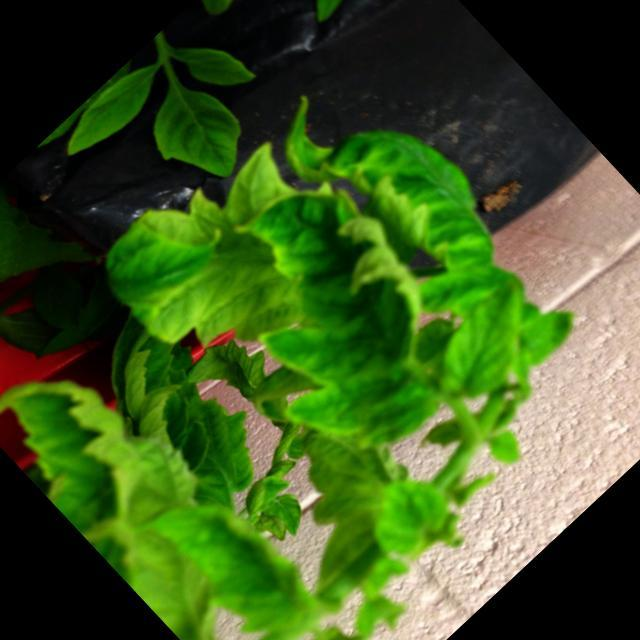Tomato yellow virus leaf: (228, 48, 601, 430), (160, 140, 520, 505), (136, 450, 353, 640), (131, 59, 266, 194)
